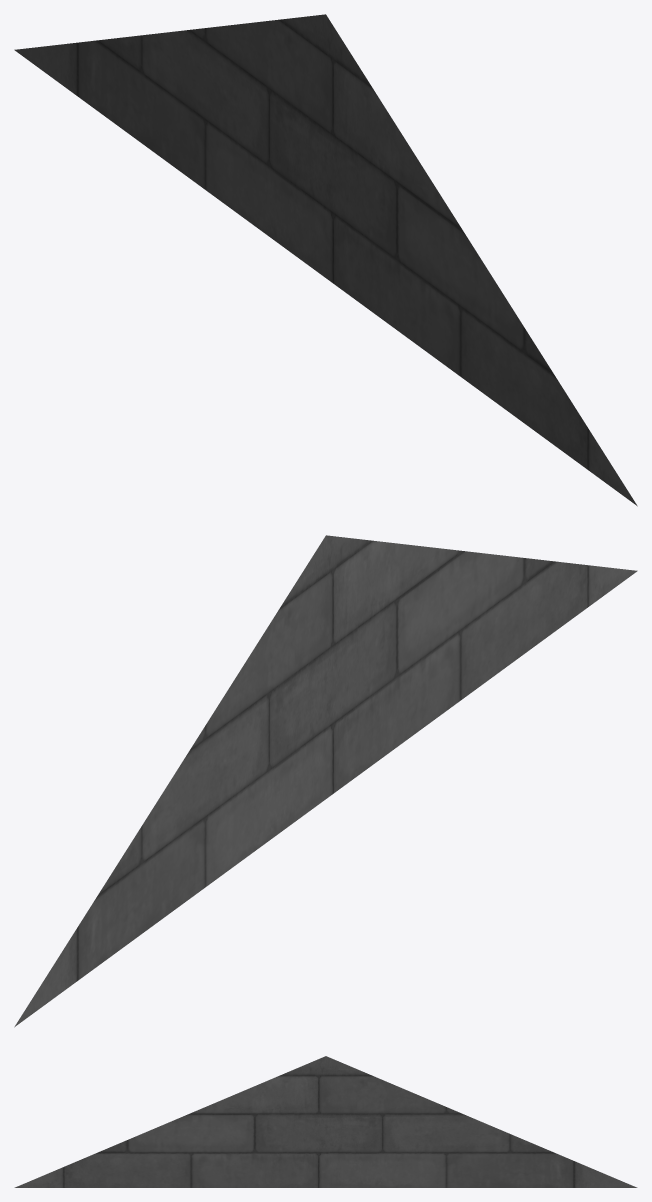
File: SM_Roof_02_End_Center.fbx
The picture shows the model from 3 angles, top to bottom: view 1: azimuth 30°, elevation 25°; view 2: azimuth 150°, elevation 25°; view 3: azimuth 270°, elevation 25°; orthographic projection. The views are drawn at different scales.
Visible parts, largest first — view 1: SM_Roof_02_End_Center_LOD0; view 2: SM_Roof_02_End_Center_LOD0; view 3: SM_Roof_02_End_Center_LOD0.
Part boxes in pixels (x1=…): SM_Roof_02_End_Center_LOD0: x1=14, y1=14, x2=637, y2=506; SM_Roof_02_End_Center_LOD0: x1=14, y1=535, x2=637, y2=1027; SM_Roof_02_End_Center_LOD0: x1=14, y1=1056, x2=637, y2=1187.
Bounding box in the file's own units: 6.19e-06 × 150 × 35.
